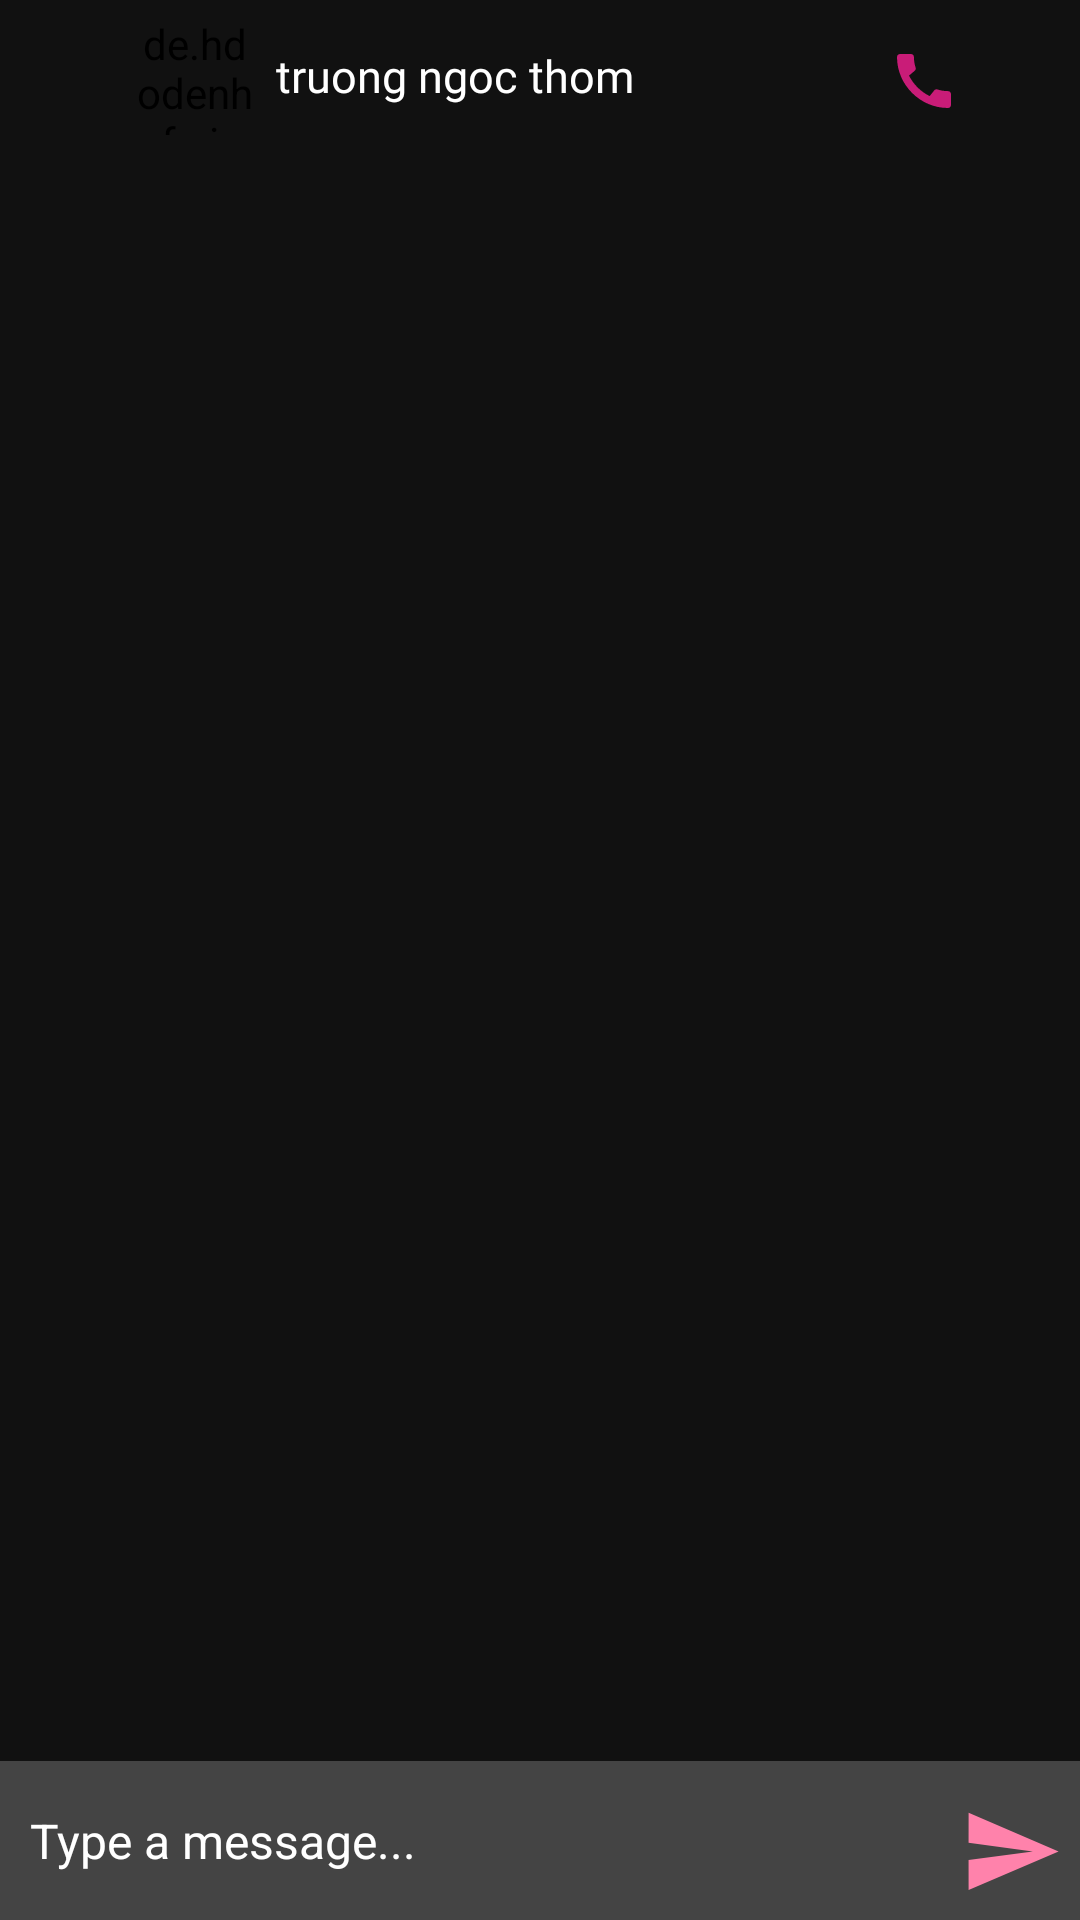

Icon bounding boxes for this 1080 x 1920 phone screenshot, format (x1, y1, x2, y2):
call: (897, 54, 951, 108)
send: (968, 1813, 1058, 1890)
